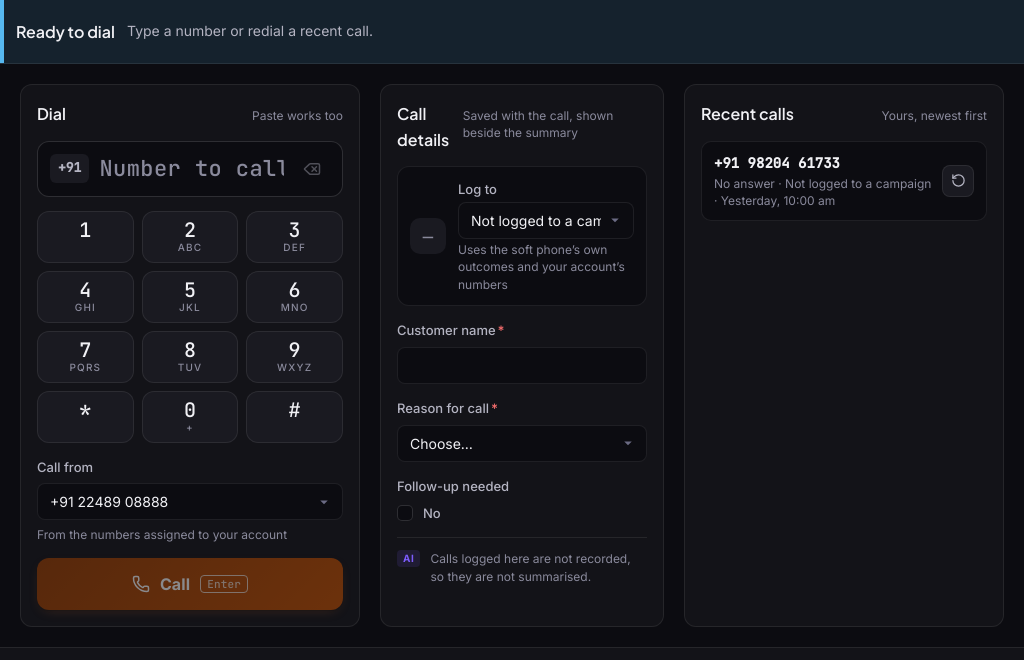
Test: Ready › says a closed window is the campaign’s time, which the customer’s own may not share
Select "Home Loan Renewals" in the dropdown with test id "log-to-select" at point(546, 220), box [458,202,634,239]
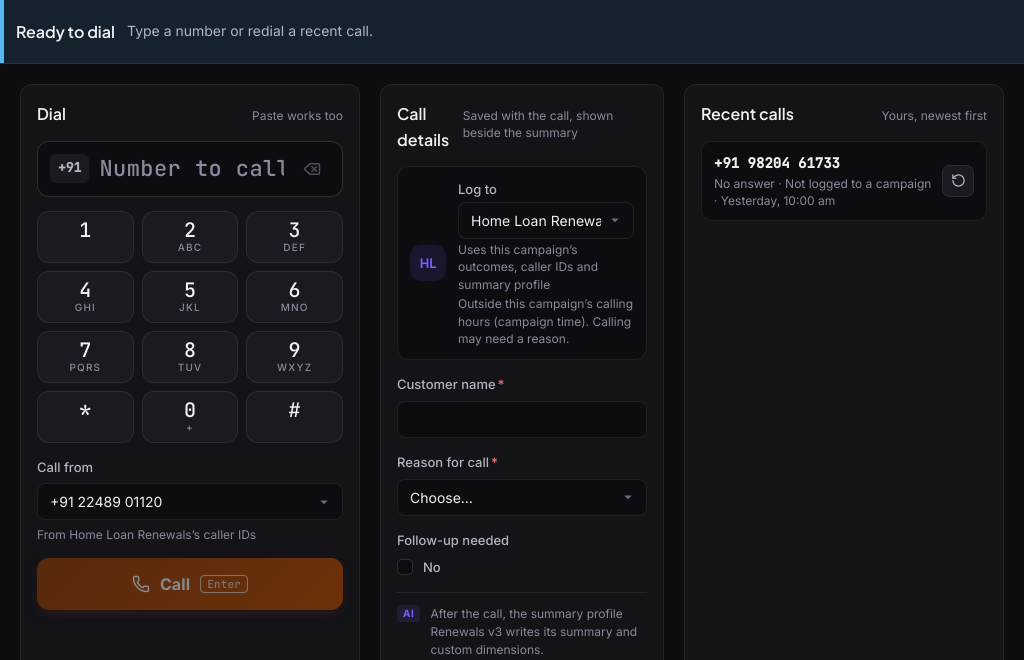
Result: the text with test id "window-closed-hint" shows "Outside this campaign’s calling hours (campaign time). Calling may need a reason." at [458,296,633,346]
